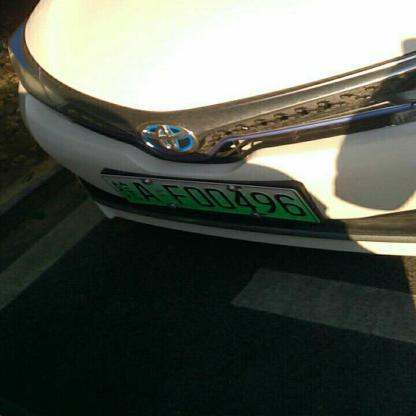lp: (100, 174, 318, 221)
